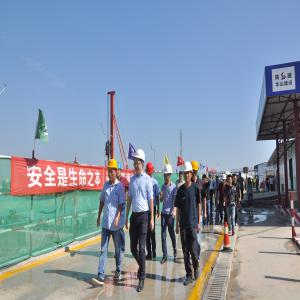blue: (118, 162, 123, 179), (240, 173, 243, 179), (249, 178, 252, 184)
none: (228, 175, 234, 186), (179, 172, 184, 182), (203, 175, 208, 184), (233, 175, 238, 184), (209, 175, 212, 181), (213, 177, 215, 181), (238, 176, 240, 179), (264, 178, 266, 181), (273, 176, 275, 179)
red: (146, 164, 154, 179)
white: (133, 149, 146, 175), (183, 163, 193, 184), (164, 165, 174, 185), (223, 175, 228, 185), (216, 174, 220, 181), (257, 177, 259, 180)
yellow: (107, 160, 119, 183), (192, 162, 200, 181), (271, 175, 273, 179), (267, 176, 269, 179), (247, 175, 248, 179), (254, 181, 255, 183)
